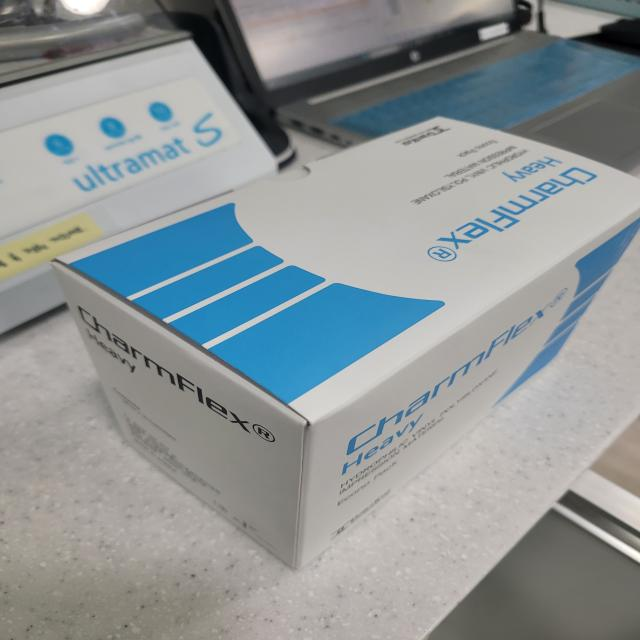impression: (48, 106, 640, 580)
